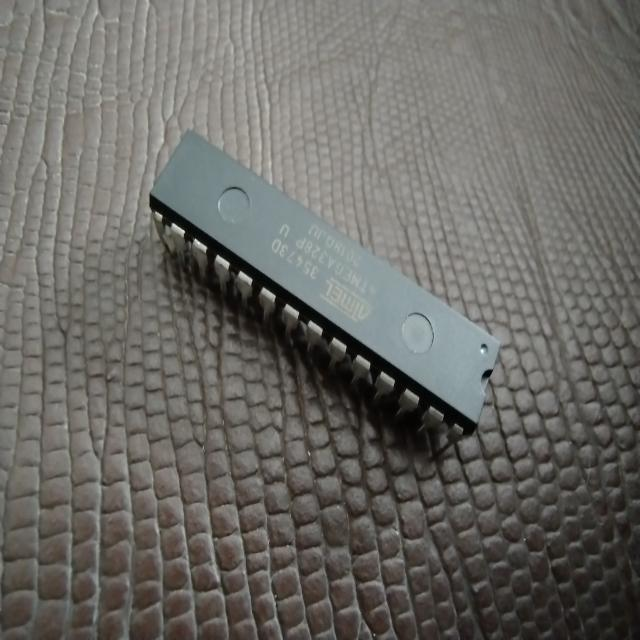atmega: (147, 126, 502, 445)
